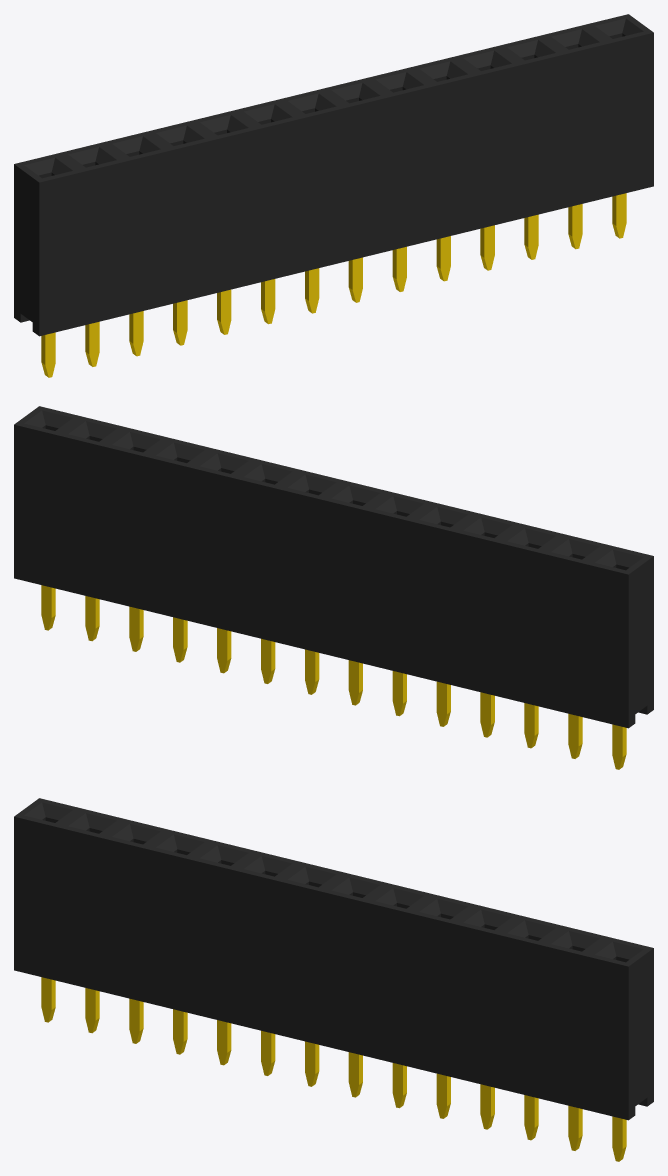
The model's file is PBS14.glb.
3 renders of one model, top to bottom at view 1: azimuth 30°, elevation 25°; view 2: azimuth 150°, elevation 25°; view 3: azimuth 330°, elevation 25°, orthographic.
Visible parts, largest first — view 1: PBS (DS1023 CONNFLY); view 2: PBS (DS1023 CONNFLY); view 3: PBS (DS1023 CONNFLY).
Part boxes in pixels (x1=…): PBS (DS1023 CONNFLY): x1=14, y1=14, x2=653, y2=377; PBS (DS1023 CONNFLY): x1=14, y1=406, x2=653, y2=769; PBS (DS1023 CONNFLY): x1=14, y1=798, x2=653, y2=1161.
Bounding box in the file's own units: 0.0356 × 0.0115 × 0.00254.
